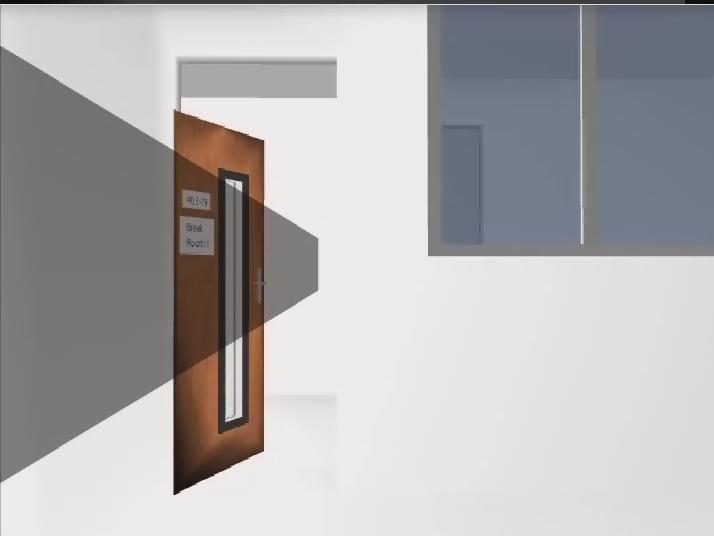door: (174, 111, 264, 493)
